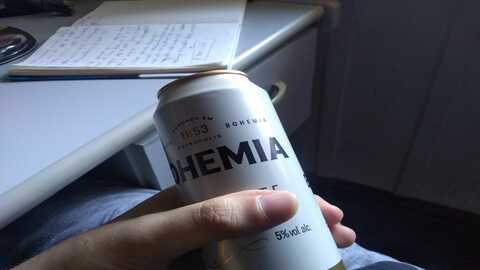bohemia: (163, 66, 334, 270)
